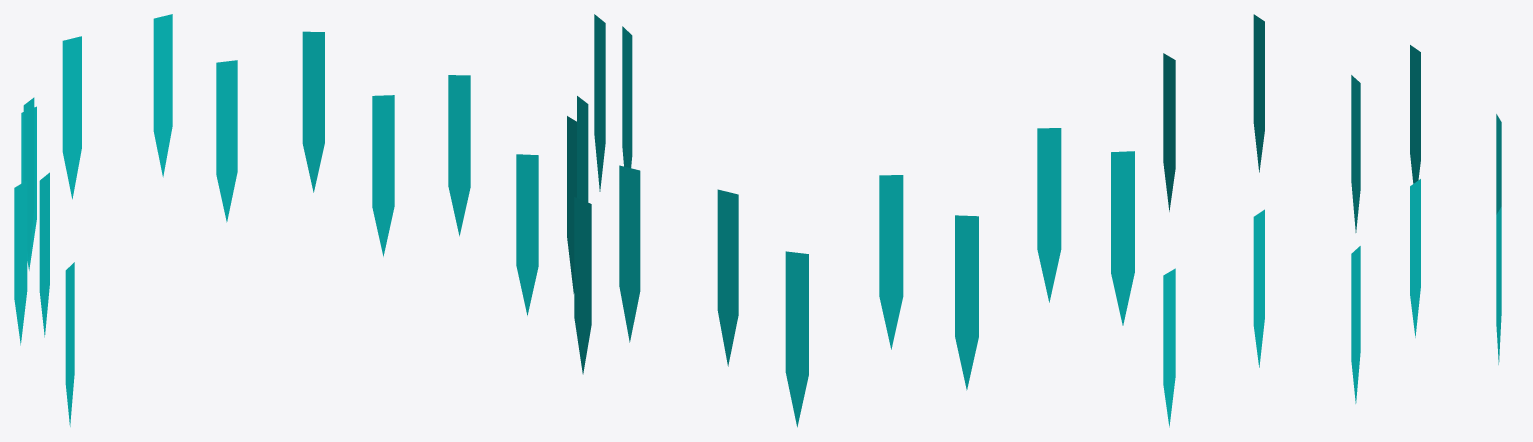
File: achievementbanners.fbx
3 renders of one model, left to right at view 1: azimuth 30°, elevation 25°; view 2: azimuth 150°, elevation 25°; view 3: azimuth 270°, elevation 25°, orthographic. The views are drawn at different scales.
Parts seen in each view (by area): view 1: bann12 (×12); view 2: bann12 (×12); view 3: bann12 (×10).
Boxes of the visible parts, box(x1,y1,x2,y2) form: bann12 (×12): box(14, 14, 538, 426); bann12 (×12): box(567, 14, 1134, 427); bann12 (×10): box(1163, 14, 1501, 427).
Bounding box in the file's own units: 11.44 × 4.91 × 7.72.
